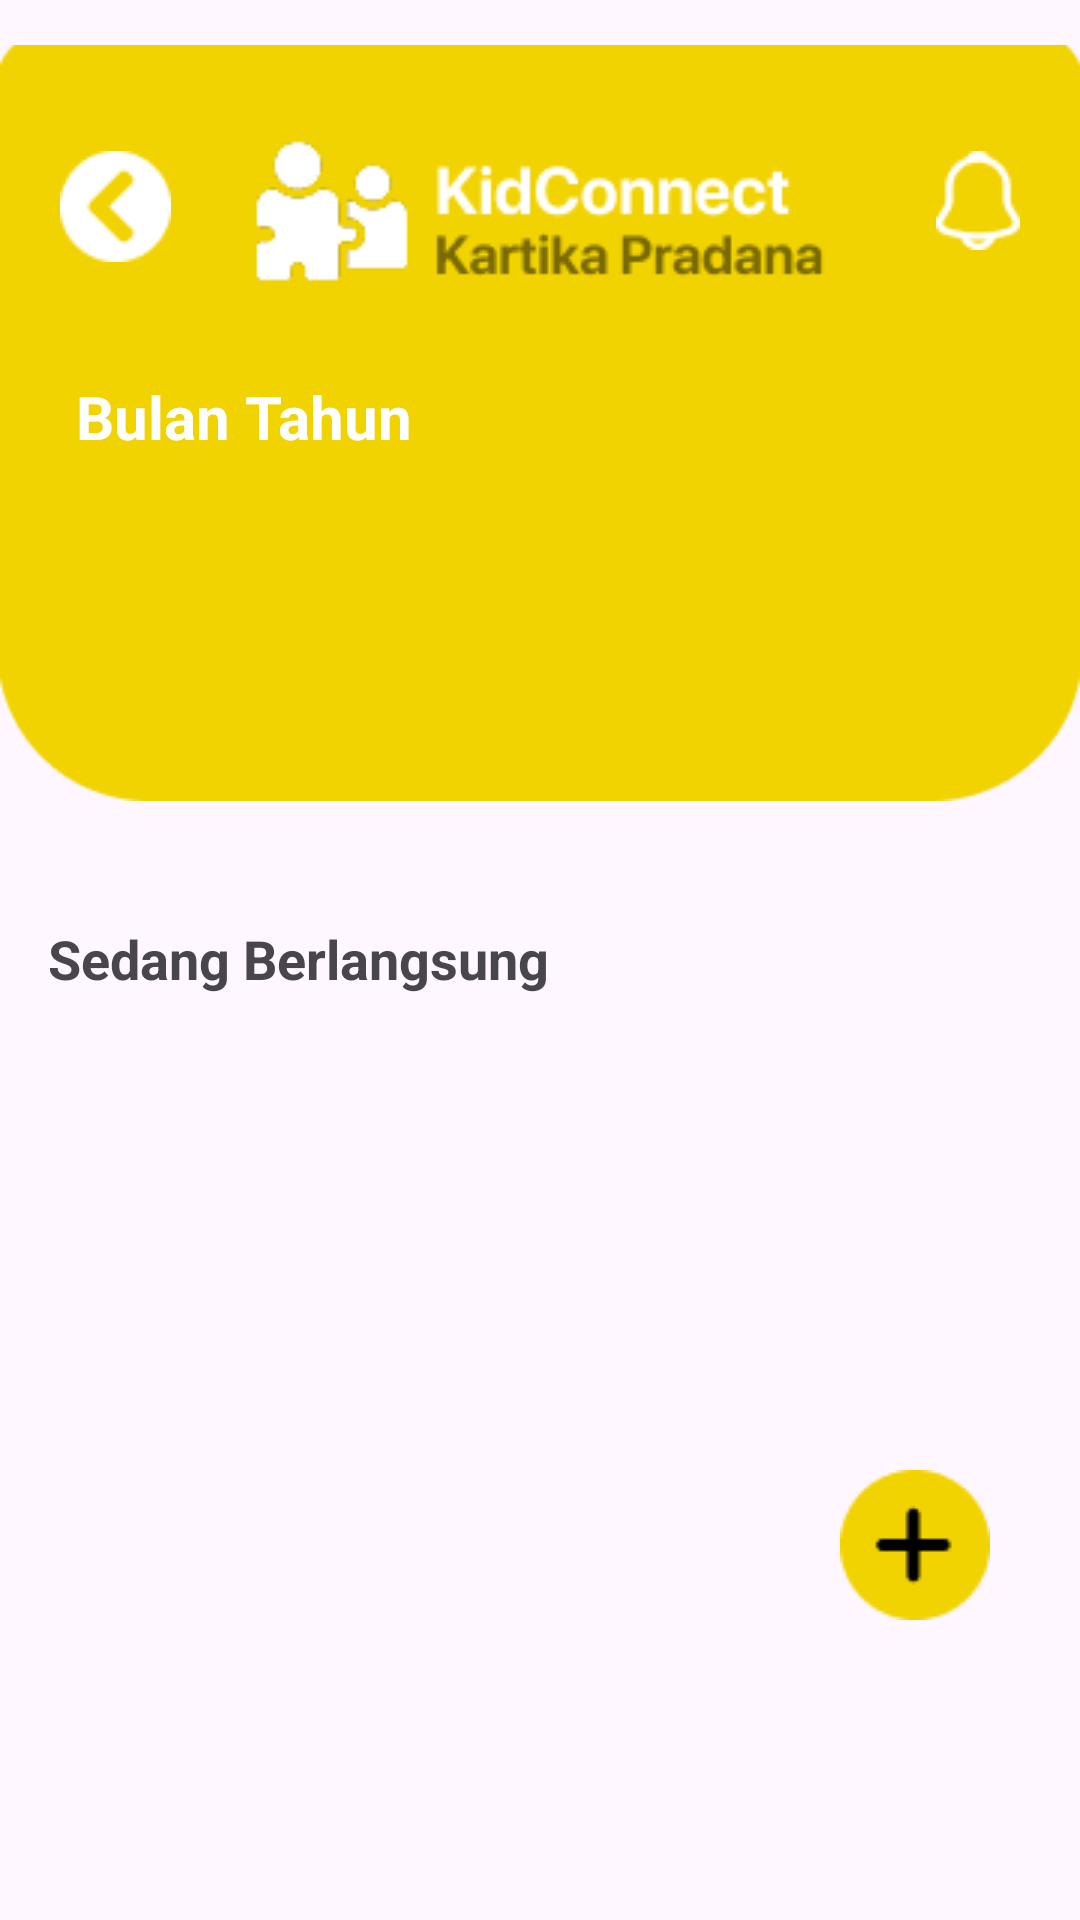

Icons on this 1080px x 1920px Android screen, each with its box as [x1, y1, x2, y2]:
back: [60, 151, 171, 262]
notif: [936, 151, 1020, 250]
tambah laporan: [840, 1470, 990, 1620]
